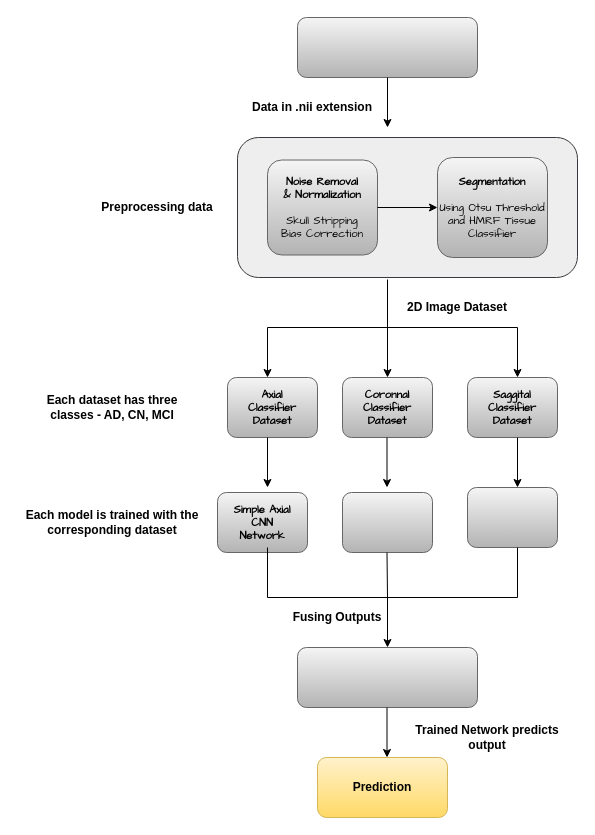
The diagram is 595 pixels wide and 835 high, and some of its shapes have lost their labels. The shapes that lost their labels are listed below. From the top down, each one's box as (x1, y1, x2, y2) in pixels, then its label:
(296, 16, 478, 78): ADNI Dataset
(342, 492, 432, 552): Simple Coronnal CNN Network
(466, 486, 558, 548): Simple Saggital CNN Network
(296, 646, 478, 708): Combined Classifier
